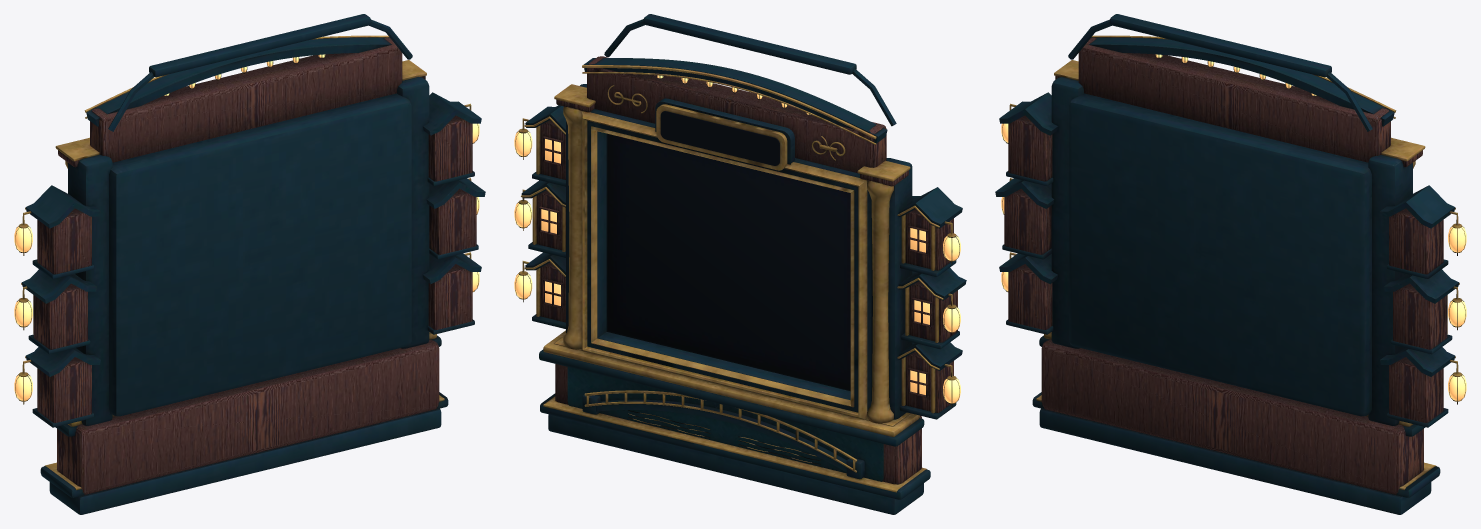
3 renders of one model, left to right at view 1: azimuth 30°, elevation 25°; view 2: azimuth 150°, elevation 25°; view 3: azimuth 330°, elevation 25°, orthographic. The views are drawn at different scales.
Parts seen in each view (by area): view 1: Midnight_lacquer, Town_walnut, Festival_brass, Warm_paper_glow; view 2: Even_dark_inset, Midnight_lacquer, Festival_brass, Town_walnut, Canal_enamel, Warm_paper_glow; view 3: Midnight_lacquer, Town_walnut, Festival_brass, Warm_paper_glow.
Boxes of the visible parts, <box> form: Midnight_lacquer: <box>21,14,485,514</box>; Town_walnut: <box>33,37,476,494</box>; Festival_brass: <box>15,35,478,490</box>; Warm_paper_glow: <box>14,54,479,400</box>; Even_dark_inset: <box>608,111,850,389</box>; Midnight_lacquer: <box>521,14,966,514</box>; Festival_brass: <box>515,65,959,492</box>; Town_walnut: <box>536,56,957,484</box>; Canal_enamel: <box>567,367,883,481</box>; Warm_paper_glow: <box>514,75,960,403</box>; Midnight_lacquer: <box>995,14,1459,514</box>; Town_walnut: <box>1004,37,1447,494</box>; Festival_brass: <box>1002,35,1465,490</box>; Warm_paper_glow: <box>1001,54,1466,400</box>.
Size of the model in its own units: 11.95 by 10.6 by 1.77.
6 materials, 5 textured.
